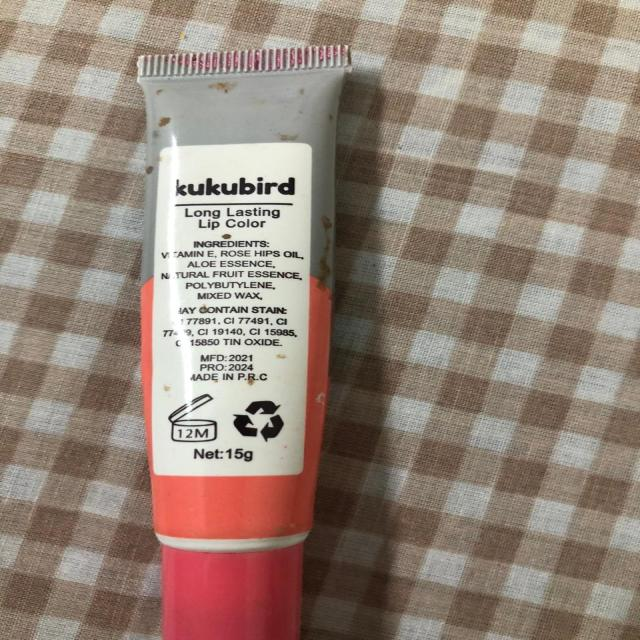lip balm: (110, 37, 341, 640)
